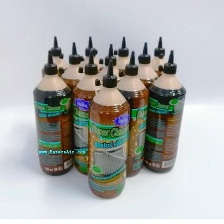cleaning_solution: (83, 56, 133, 200), (141, 46, 188, 176), (31, 47, 77, 179), (67, 48, 110, 180), (114, 48, 149, 181), (56, 38, 92, 153), (128, 40, 162, 151), (38, 34, 74, 123), (93, 40, 125, 131), (111, 34, 141, 122), (145, 35, 176, 119), (76, 35, 103, 111)
